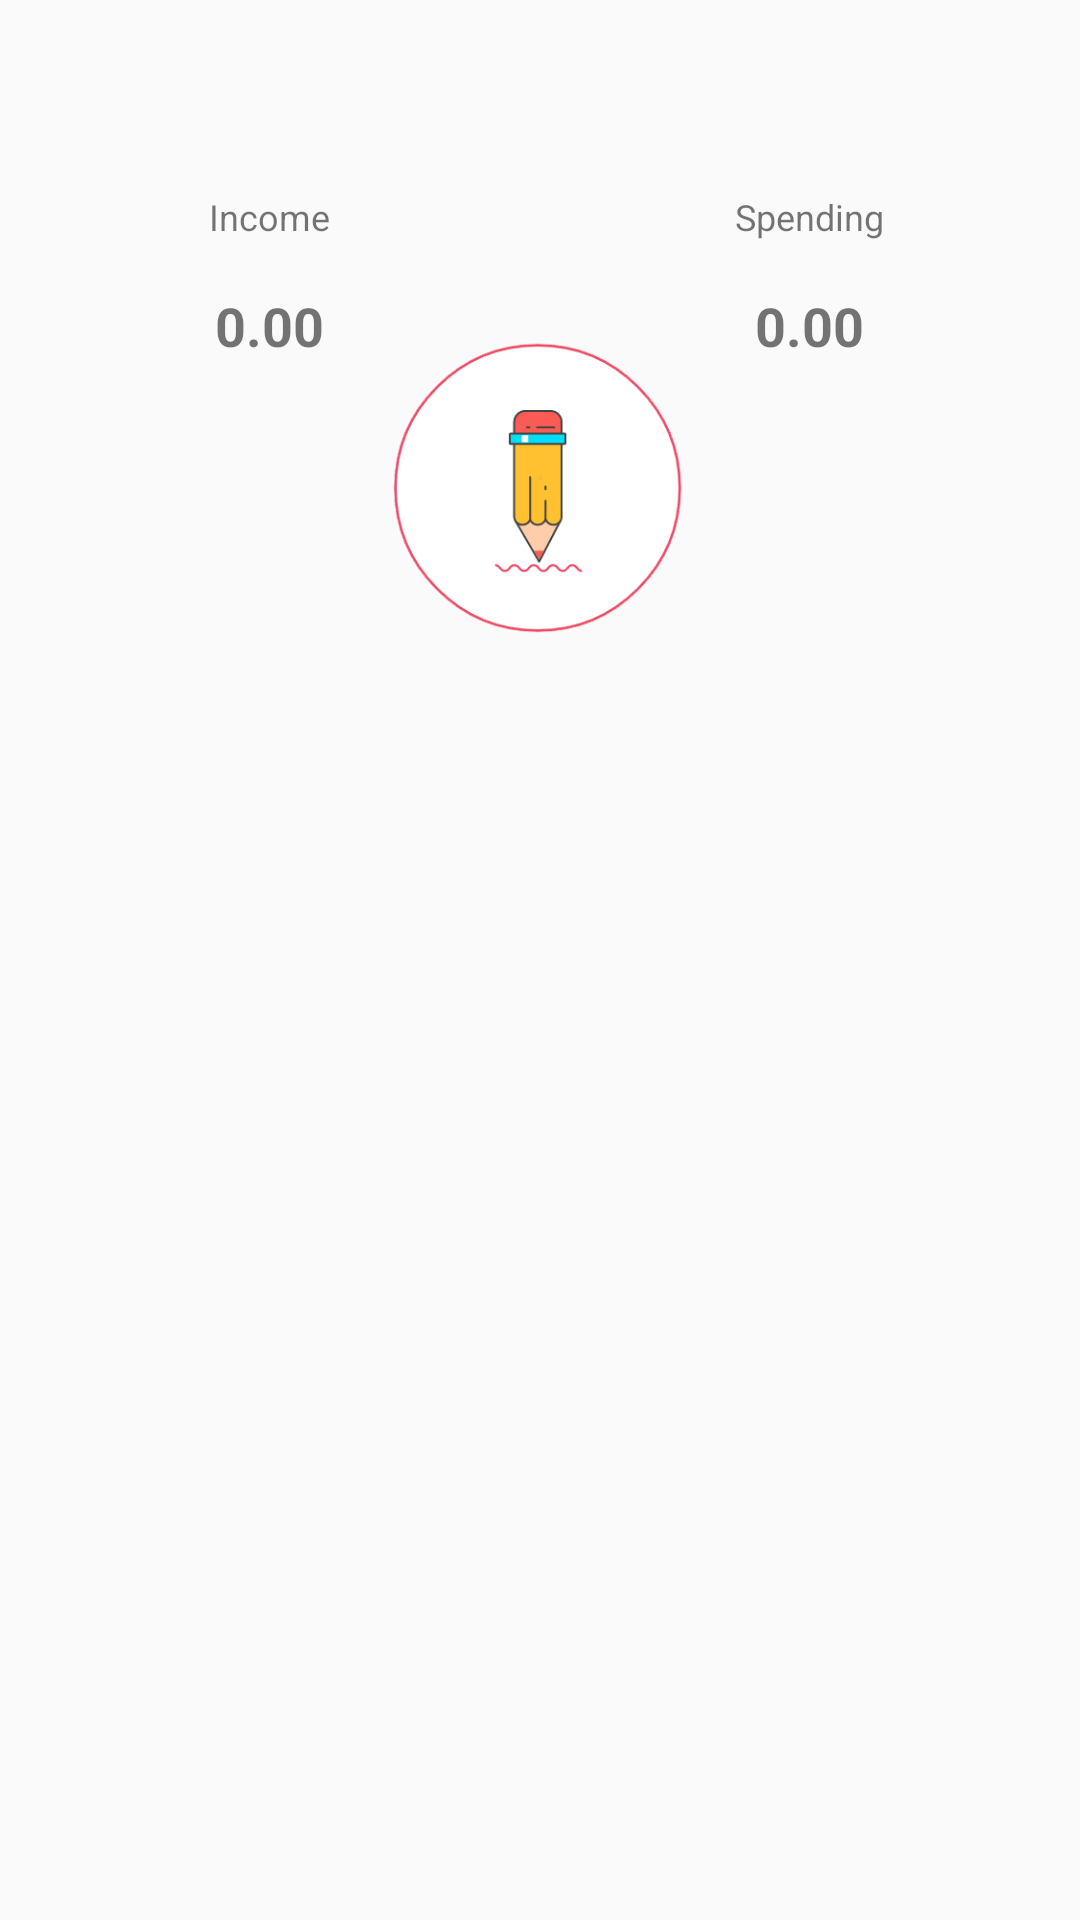

Where icons sit on this 1080×1920 app screen, as {"x1": x1, "y1": y1, "x2": x2, "y2": y2}:
edit: {"x1": 394, "y1": 343, "x2": 682, "y2": 632}
